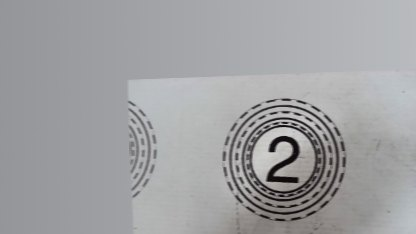2r: (218, 94, 348, 225)
